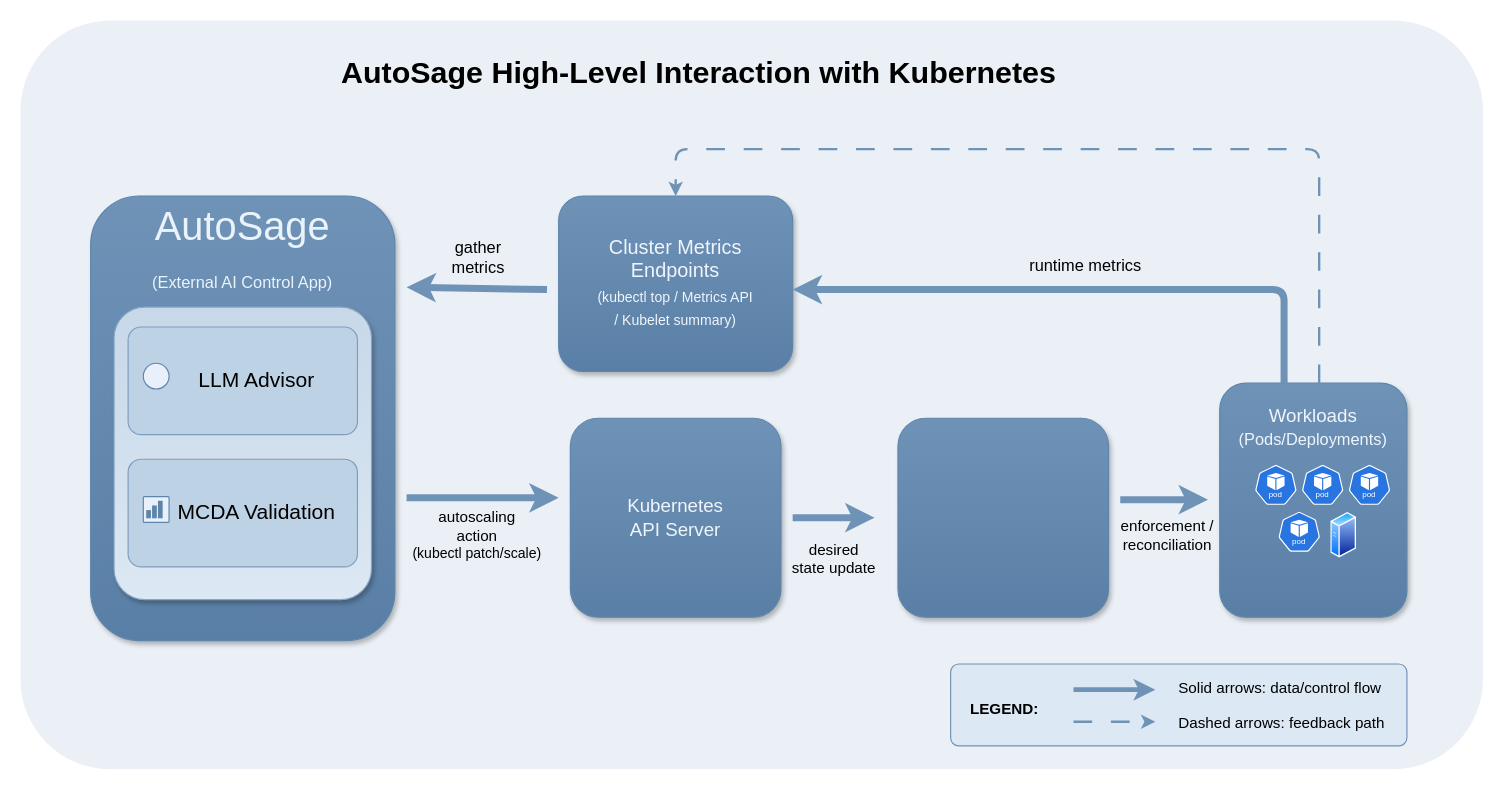
This 1502x789 diagram has some shape labels left out. Each missing label, with the centre of its shape:
"AI" belongs at [155,375].
"K8s Control Plane (HPA or VPA)" belongs at [1004,518].
